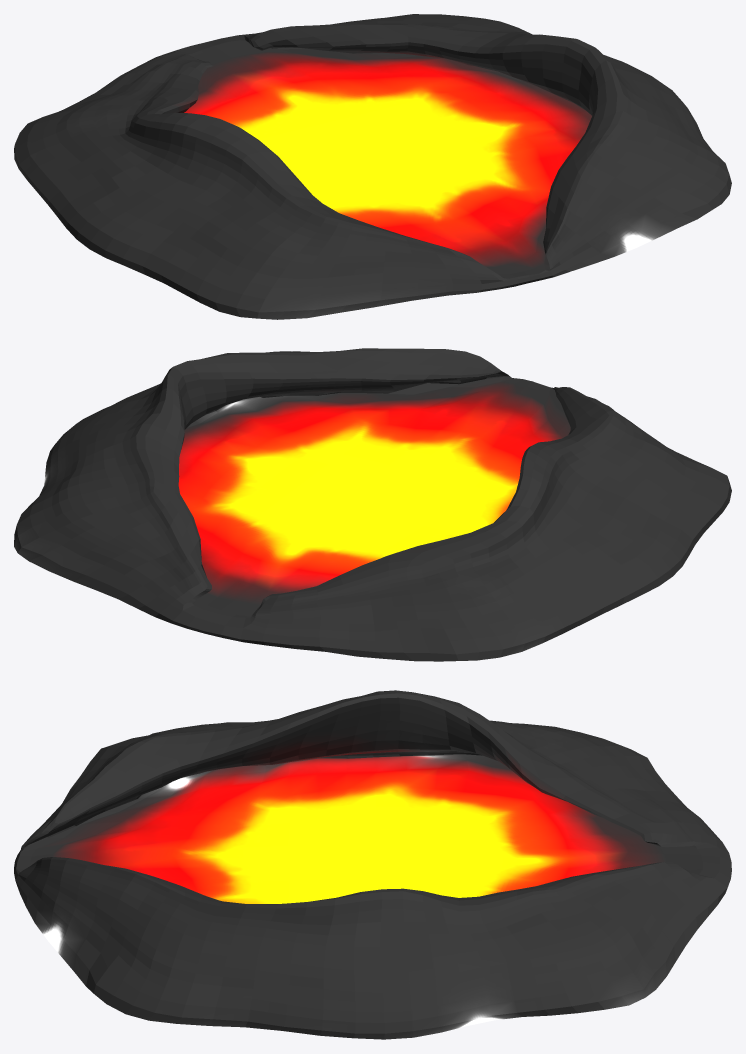
File: Volcano.fbx
The picture shows the model from 3 angles, top to bottom: view 1: azimuth 30°, elevation 25°; view 2: azimuth 150°, elevation 25°; view 3: azimuth 270°, elevation 25°; orthographic projection. The views are drawn at different scales.
Parts seen in each view (by area): view 1: Volcano2.001; view 2: Volcano2.001; view 3: Volcano2.001.
Part boxes in pixels (left/top/right/bottom): Volcano2.001: left=14, top=14, right=731, bottom=319; Volcano2.001: left=14, top=348, right=731, bottom=661; Volcano2.001: left=14, top=690, right=731, bottom=1039.
Size of the model in its own units: 202 by 31.62 by 195.
